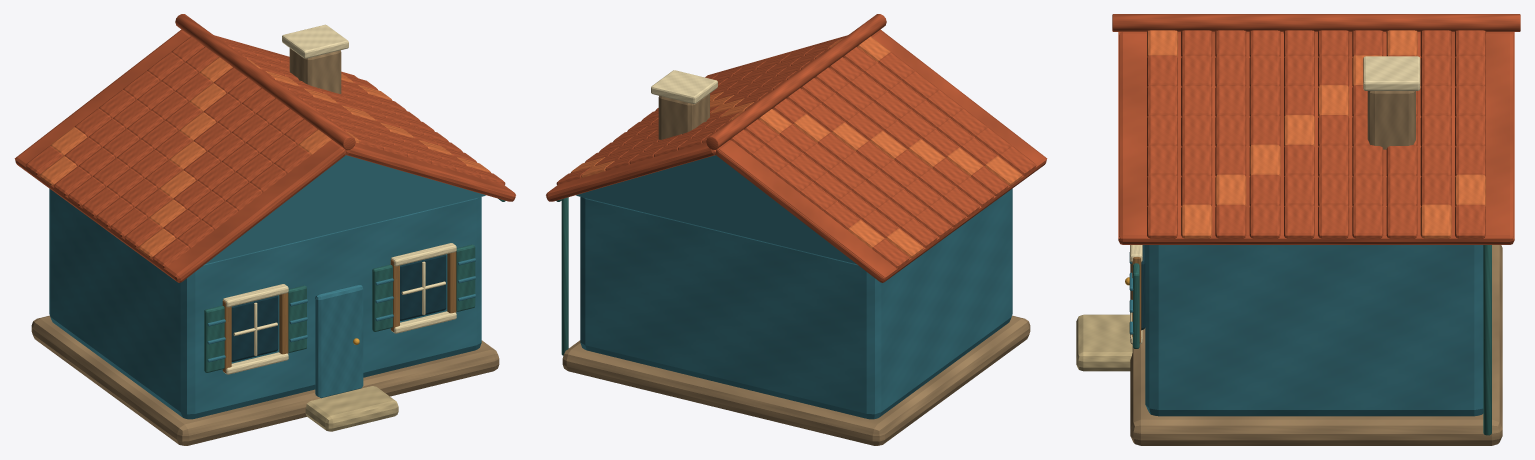
File: Harbor_Boathouse.fbx
3 views of the same model, side by side, from view 1: azimuth 30°, elevation 25°; view 2: azimuth 150°, elevation 25°; view 3: azimuth 270°, elevation 25° (orthographic). The views are drawn at different scales.
Visible parts, largest first — view 1: Harbor_Boathouse; view 2: Harbor_Boathouse; view 3: Harbor_Boathouse.
Part boxes in pixels (x1,y1,x2,y2): Harbor_Boathouse: (14,14,515,445); Harbor_Boathouse: (546,14,1047,445); Harbor_Boathouse: (1076,14,1520,445).
Bounding box in the file's own units: 798 × 740 × 625.
